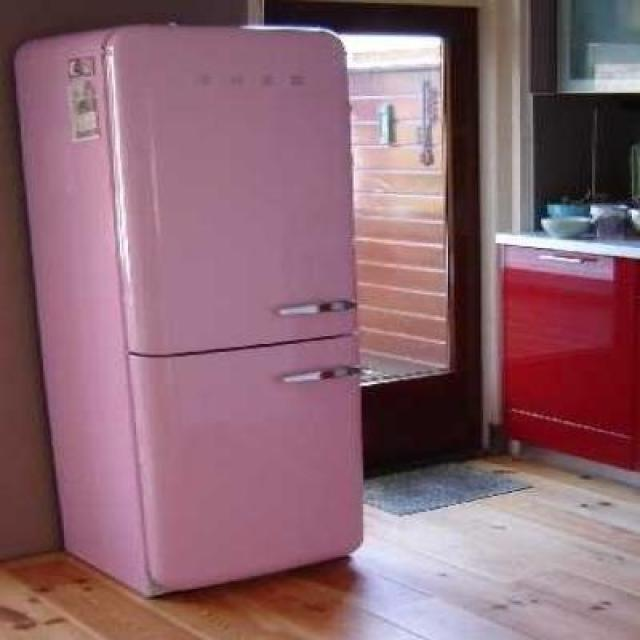refrigerator: (101, 26, 368, 604)
